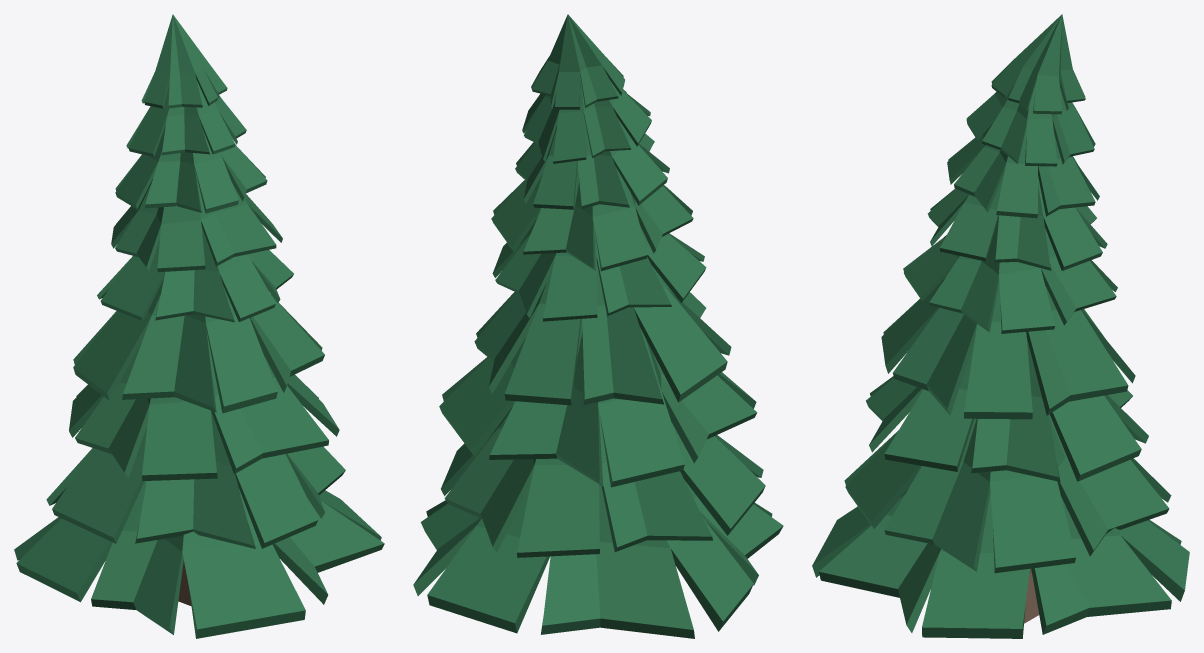
Rendered from pino3.fbx.
3 renders of one model, left to right at view 1: azimuth 30°, elevation 25°; view 2: azimuth 150°, elevation 25°; view 3: azimuth 270°, elevation 25°, orthographic. The views are drawn at different scales.
Parts seen in each view (by area): view 1: pino_3:Mesh; view 2: pino_3:Mesh; view 3: pino_3:Mesh.
Part boxes in pixels (<box>): pino_3:Mesh: <box>14,14,384,638</box>; pino_3:Mesh: <box>413,14,783,638</box>; pino_3:Mesh: <box>812,14,1189,638</box>.
Bounding box in the file's own units: 6.81 × 12.28 × 7.04.
1 material, 1 textured.
